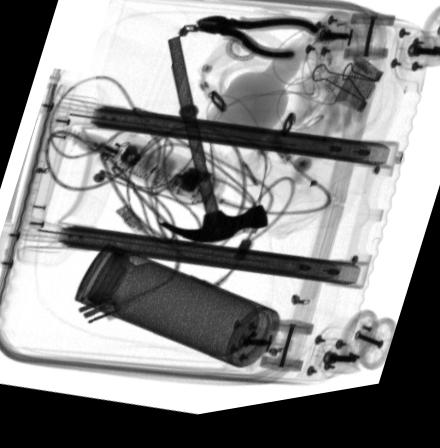Hammer: (158, 44, 267, 251)
Pliers: (195, 23, 320, 72)
